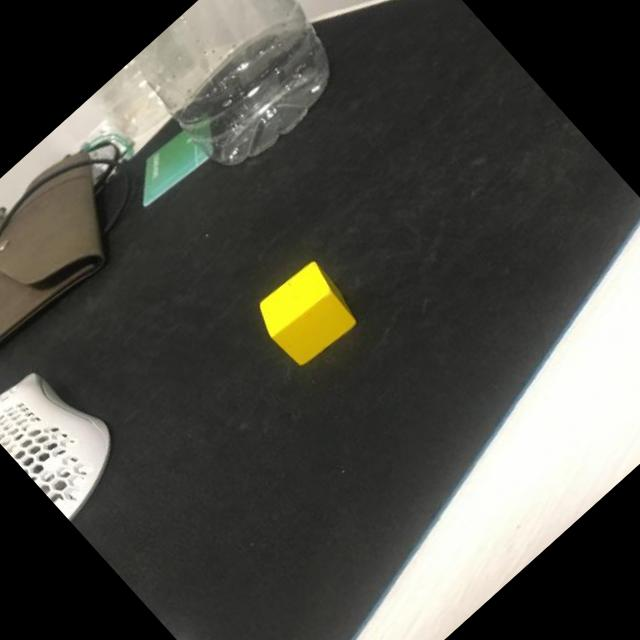yellow: (249, 255, 365, 371)
